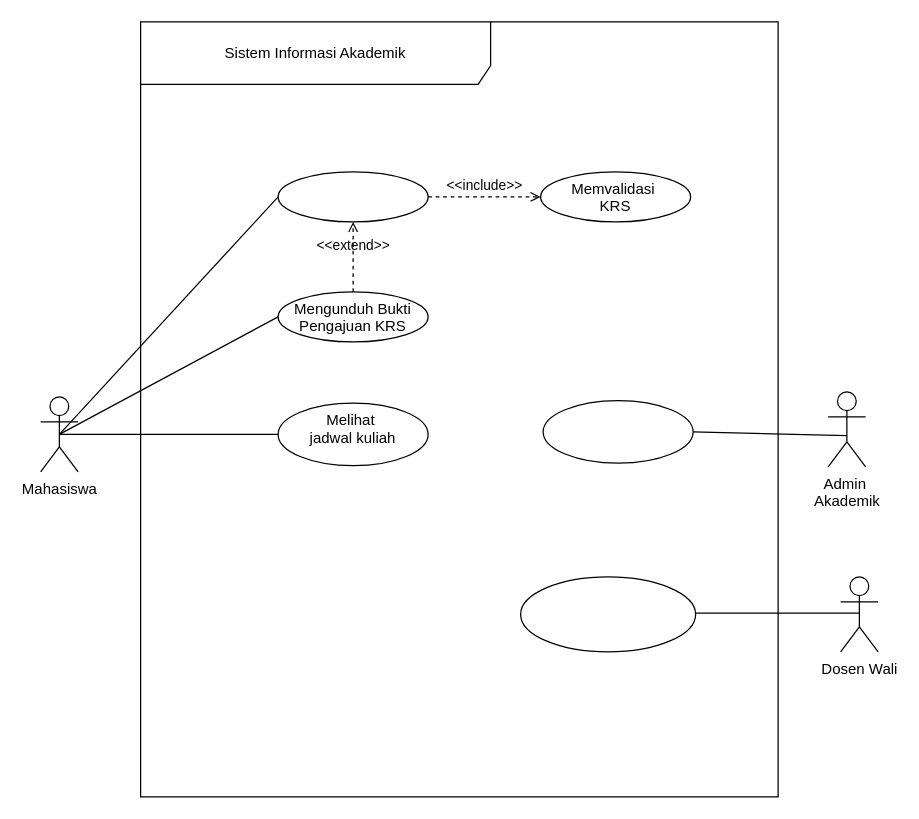
Image size: 919x819. Some labels were removed from this diagram. The shapes that lost their labels are listed below. From the top down, each one's centre as x and y in pixels, then its label:
point 352,196: Mengajukan KRS
point 617,431: Mengelola Jadwal Kuliah
point 607,614: Memproses persetujuan/penolakan KRS
